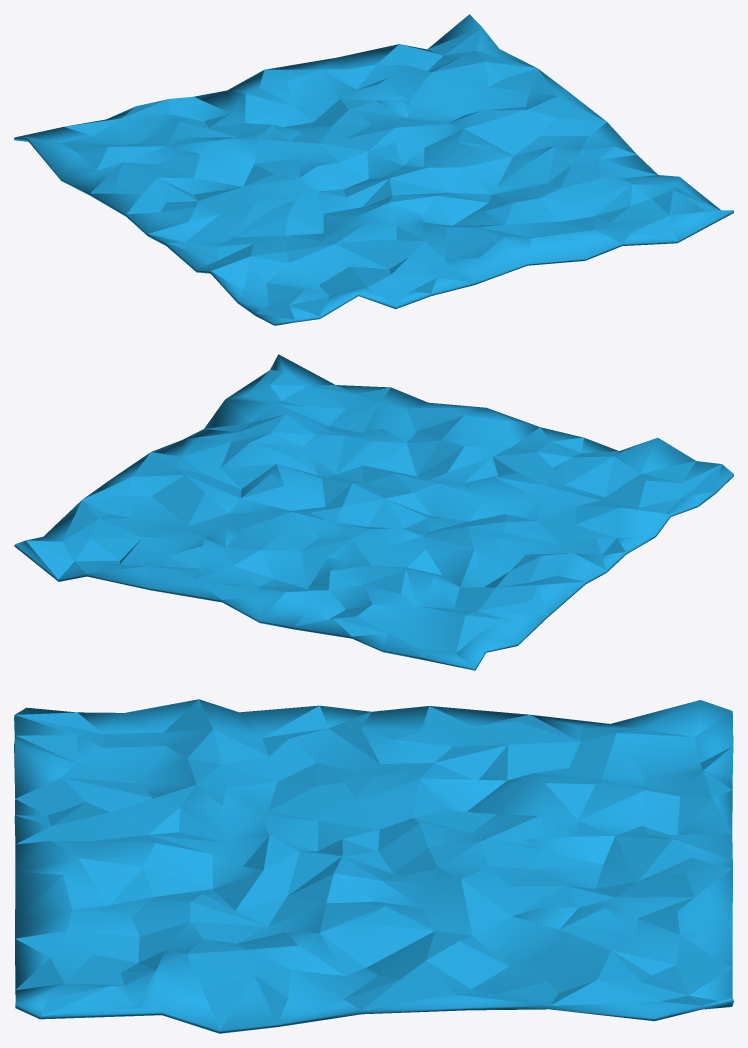
File: oceanwater.fbx
3 renders of one model, top to bottom at view 1: azimuth 30°, elevation 25°; view 2: azimuth 150°, elevation 25°; view 3: azimuth 270°, elevation 25°, orthographic. The views are drawn at different scales.
Parts seen in each view (by area): view 1: oceanwater; view 2: oceanwater; view 3: oceanwater.
Part boxes in pixels (bbox=[...]): oceanwater: bbox=[14, 14, 733, 325]; oceanwater: bbox=[14, 354, 733, 670]; oceanwater: bbox=[14, 699, 733, 1033].
Size of the model in its own units: 2027 by 135 by 2021.
